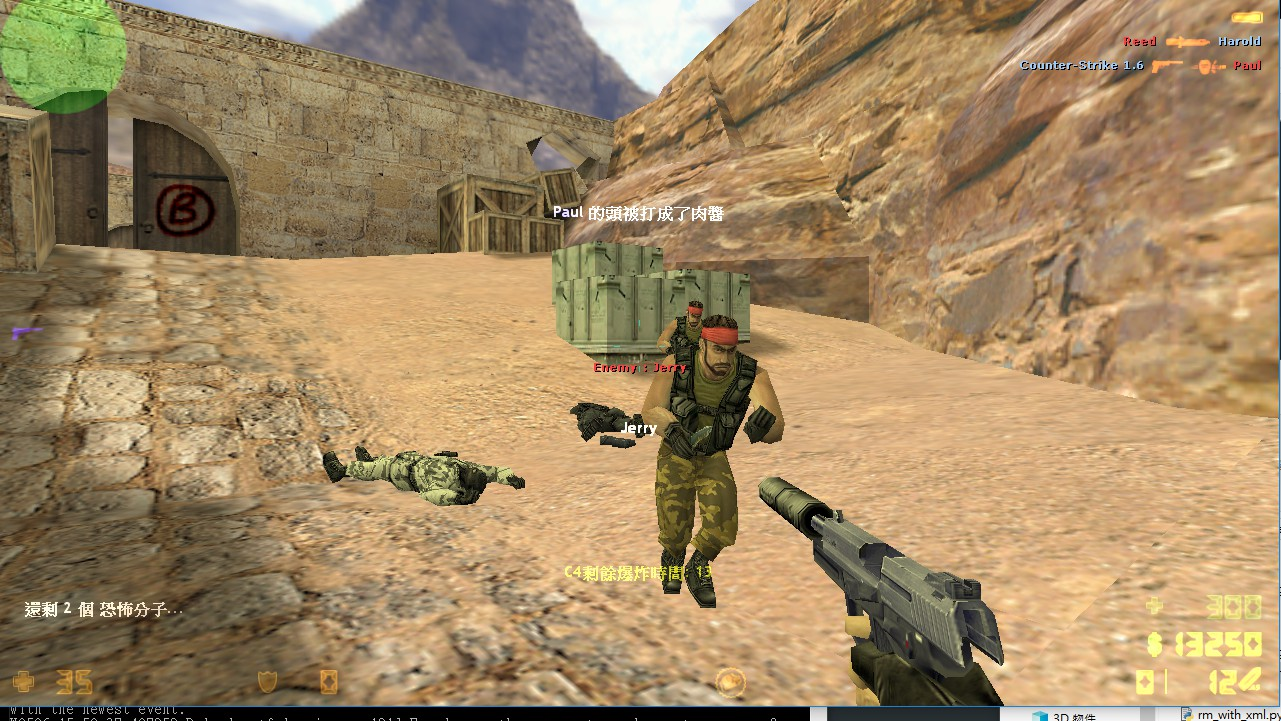person: (652, 320, 743, 605)
